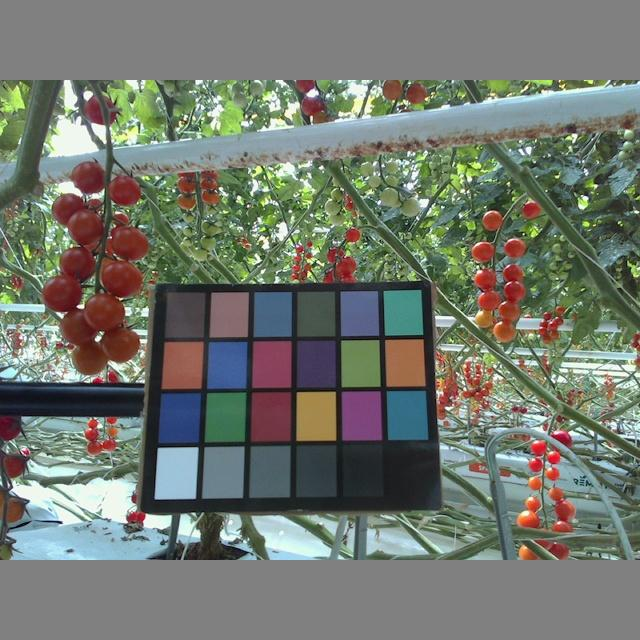pink: (39, 274, 83, 312), (101, 260, 143, 299), (83, 293, 125, 332), (59, 308, 99, 347), (99, 325, 139, 364), (59, 243, 96, 281), (109, 226, 150, 260), (66, 209, 104, 245), (70, 340, 108, 376), (70, 161, 106, 195), (52, 194, 87, 227), (85, 94, 118, 126), (108, 174, 140, 207), (1, 494, 29, 527), (1, 451, 25, 478), (555, 499, 577, 524), (477, 291, 503, 312), (473, 267, 496, 290), (471, 240, 495, 262), (515, 510, 539, 532), (481, 207, 502, 232), (494, 319, 515, 344), (497, 299, 520, 321), (504, 281, 526, 302), (502, 237, 525, 257), (502, 263, 523, 282), (476, 307, 494, 329), (530, 440, 548, 457), (525, 493, 541, 509), (527, 474, 542, 491), (544, 464, 560, 479), (527, 457, 543, 471), (549, 485, 563, 501), (547, 448, 560, 463)
red: (1, 410, 23, 443)
